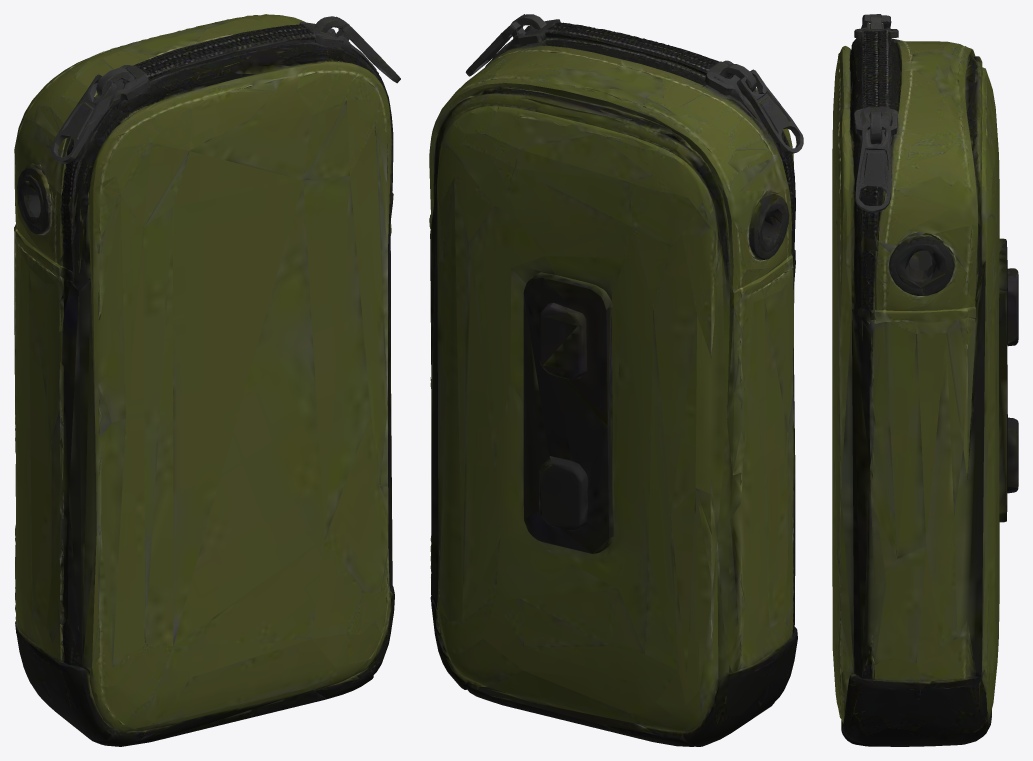
File: lkdv-m16.glb
The picture shows the model from 3 angles, left to right: view 1: azimuth 30°, elevation 25°; view 2: azimuth 150°, elevation 25°; view 3: azimuth 270°, elevation 25°; orthographic projection. The views are drawn at different scales.
Size of the model in its own units: 0.088 by 0.165 by 0.0443.
Materials: 1 (1 with a texture image).
